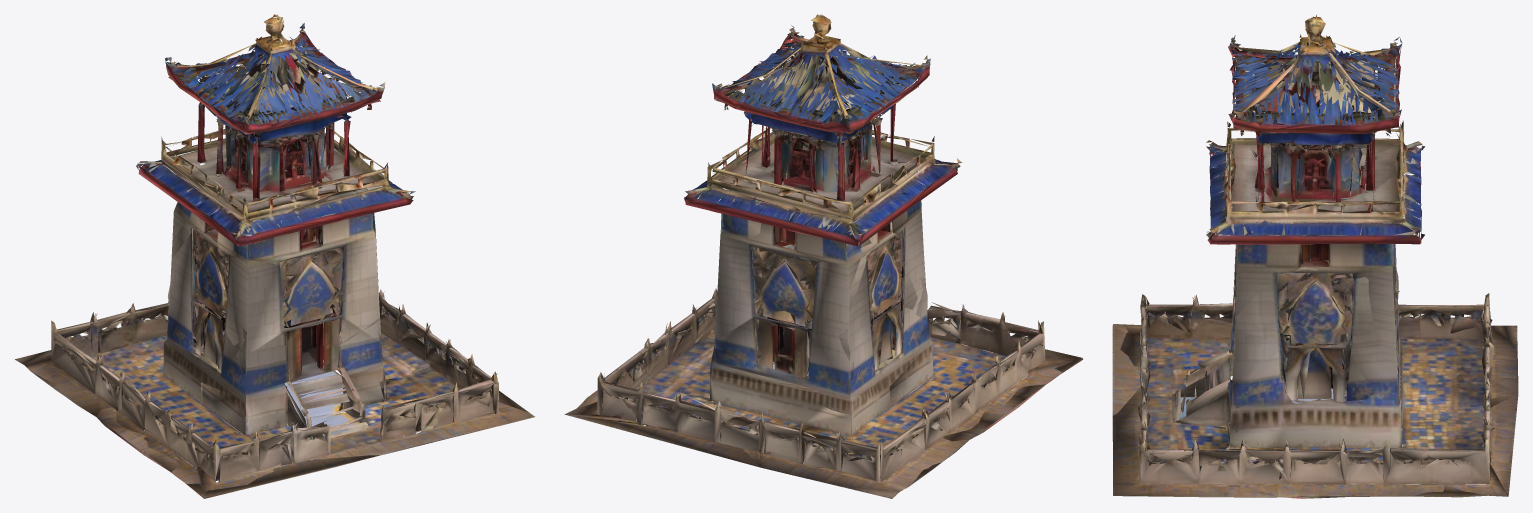
Rendered from Ornate_Watchtower_town.glb.
3 renders of one model, left to right at view 1: azimuth 30°, elevation 25°; view 2: azimuth 150°, elevation 25°; view 3: azimuth 270°, elevation 25°, orthographic. The views are drawn at different scales.
Visible parts, largest first — view 1: Ornate_Watchtower; view 2: Ornate_Watchtower; view 3: Ornate_Watchtower.
Part boxes in pixels (x1,y1,x2,y2): Ornate_Watchtower: [15, 14, 534, 498]; Ornate_Watchtower: [564, 14, 1082, 498]; Ornate_Watchtower: [1112, 14, 1518, 498].
Bounding box in the file's own units: 1.74 × 1.89 × 1.73.
1 material, 1 textured.
